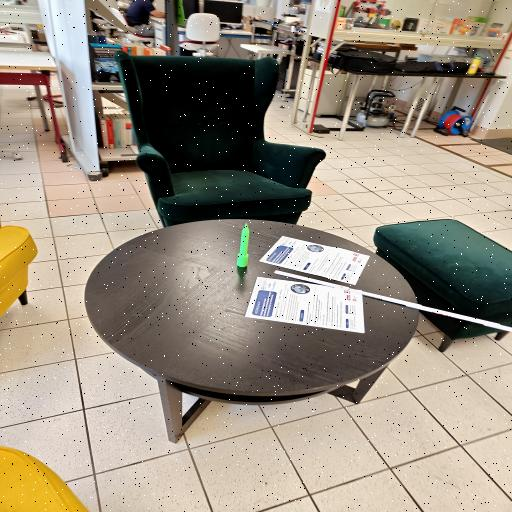Probe-Detection: (237, 223, 250, 268)
